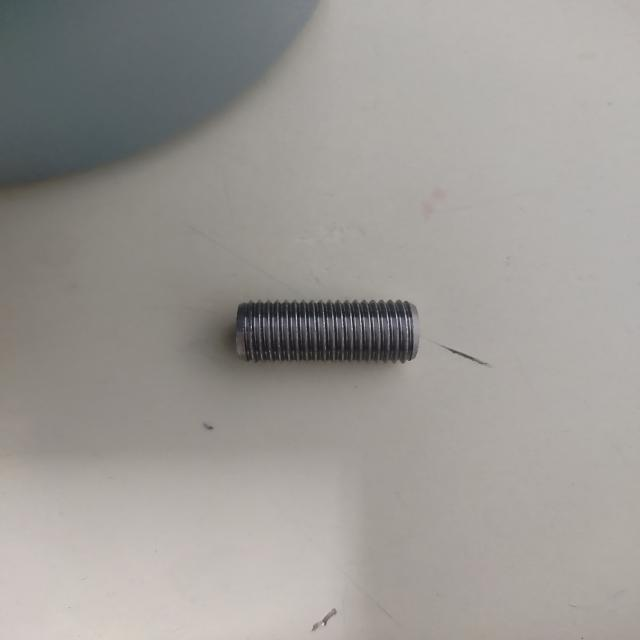Normal: (235, 298, 421, 367)
